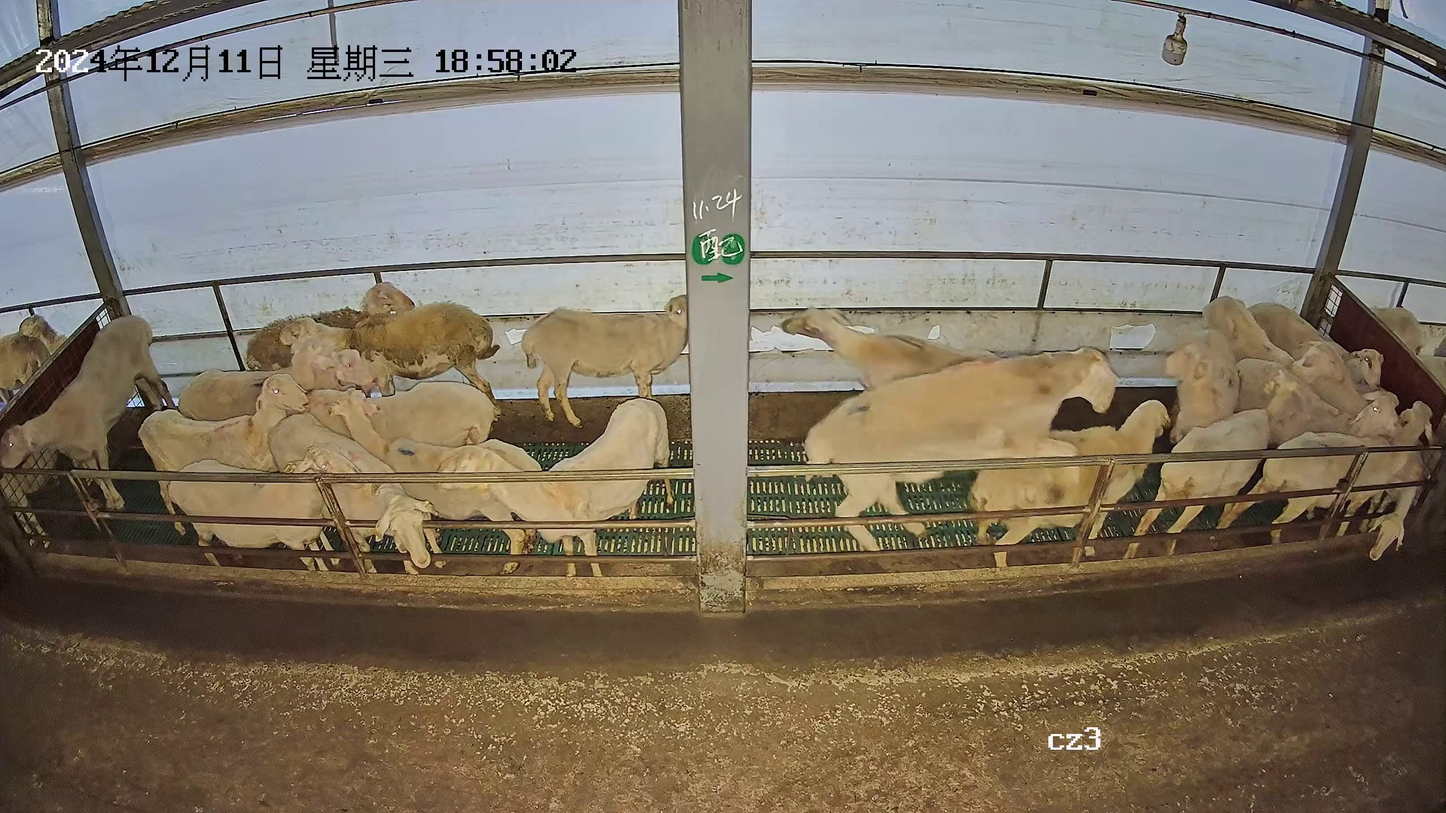Smounting: (802, 342, 1177, 567)
mounted: (965, 398, 1173, 563)
